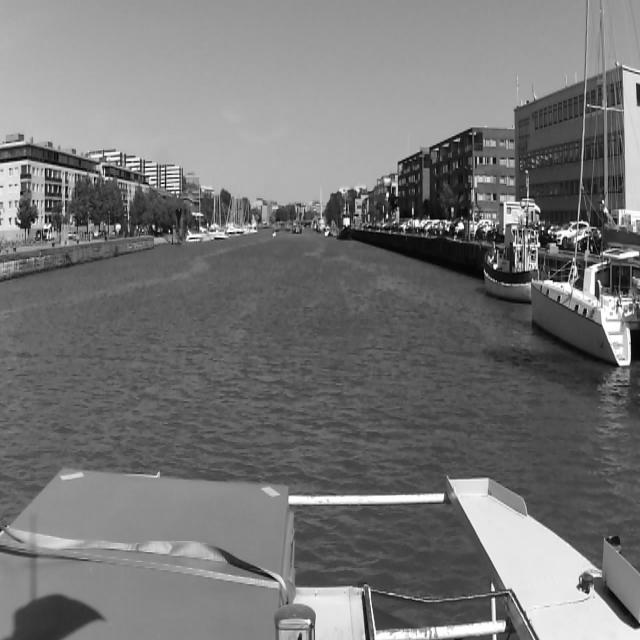ship: (532, 5, 638, 367), (479, 203, 545, 304), (209, 191, 229, 238), (318, 188, 326, 232), (186, 228, 209, 242), (340, 208, 350, 236), (272, 219, 292, 230), (226, 228, 242, 235), (272, 232, 276, 237)
